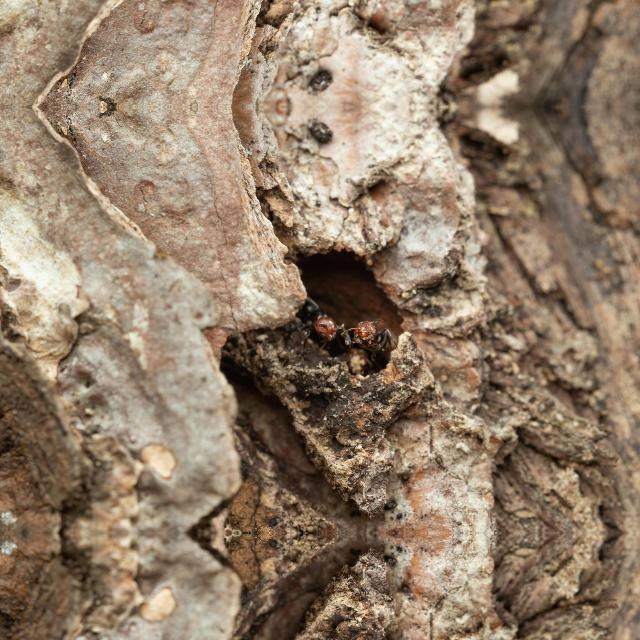Crematogaster: (302, 300, 336, 344), (361, 318, 394, 362)
